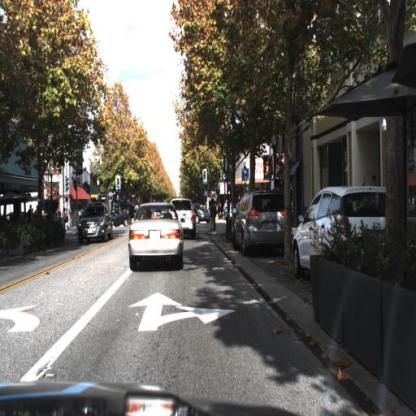car: (291, 183, 390, 279), (127, 198, 187, 277), (232, 190, 292, 260), (76, 201, 114, 249), (78, 200, 114, 244), (175, 196, 197, 238), (111, 209, 132, 230), (196, 201, 210, 228)
pedestrian: (209, 199, 217, 233), (212, 198, 219, 234), (27, 203, 35, 222)
trafficLight-Green: (201, 169, 210, 187), (202, 170, 209, 186), (116, 175, 122, 193)
